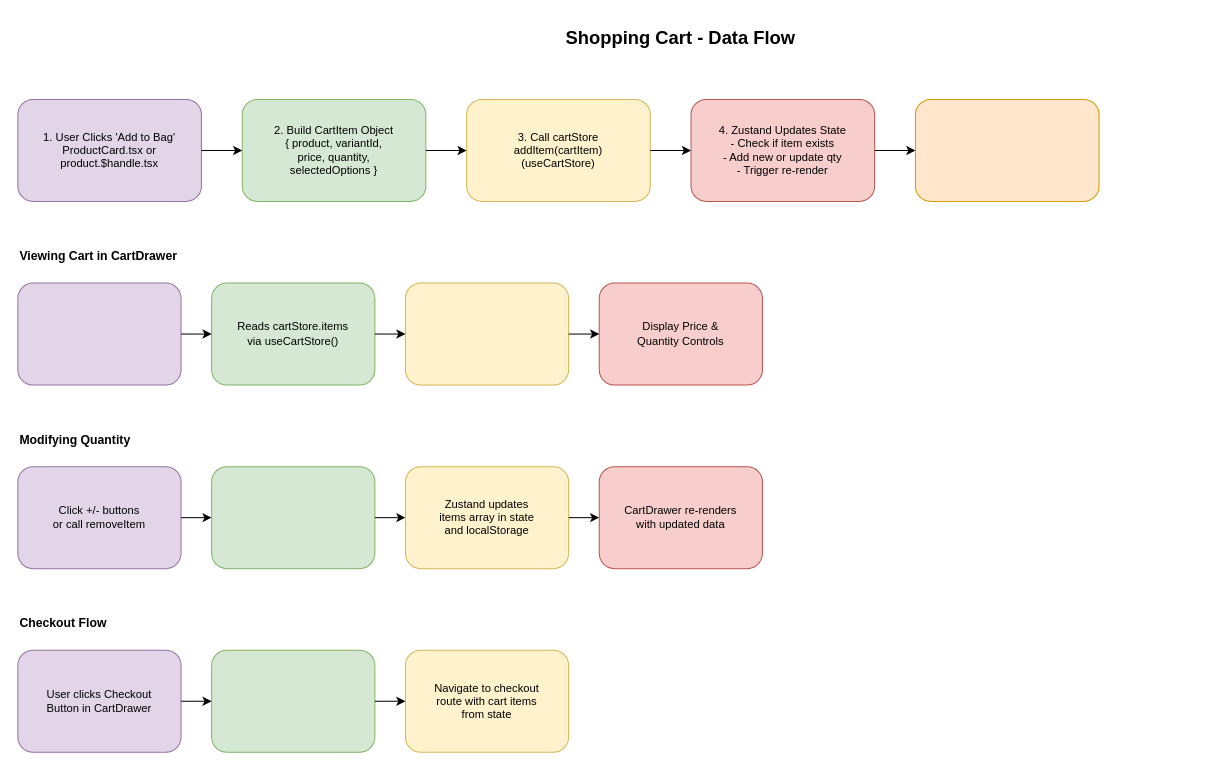
This 1209x770 diagram has some shape labels left out. Each missing label, with the centre of its shape:
"5. Persist to localStorage (Zustand middleware)" goes at pixel 1006 149.
"Call cartStore updateQuantity(id, qty) or removeItem(id)" goes at pixel 293 517.
"Call getCheckoutUrl() Returns: '/checkout'" goes at pixel 293 700.
"Map items array Render ProductCard with image_url & name" goes at pixel 486 333.
"User Opens CartDrawer Sheet component" goes at pixel 99 333.
